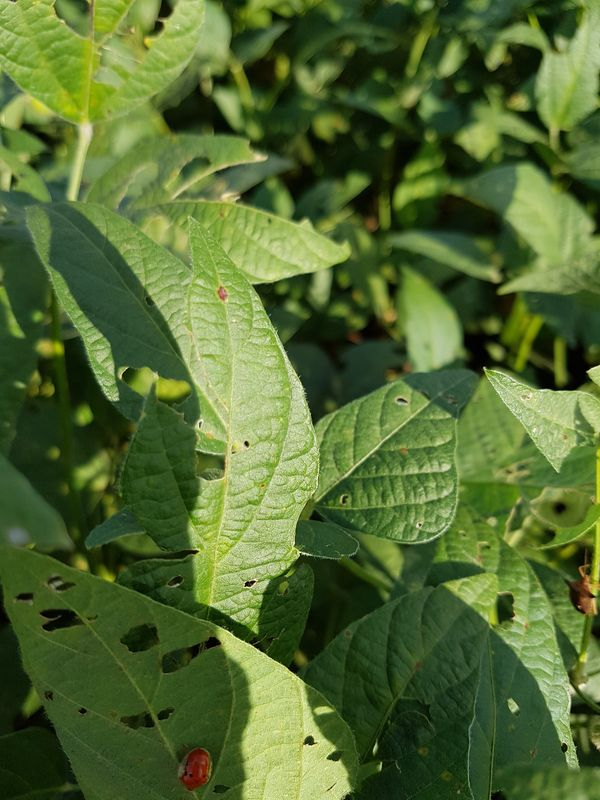Coccinellidae: (163, 733, 227, 798)
Euschistus_heros_adulto: (550, 561, 599, 628)
